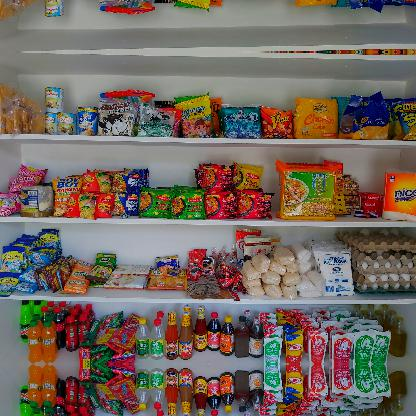Lady-s-Choice: (19, 186, 53, 216)
